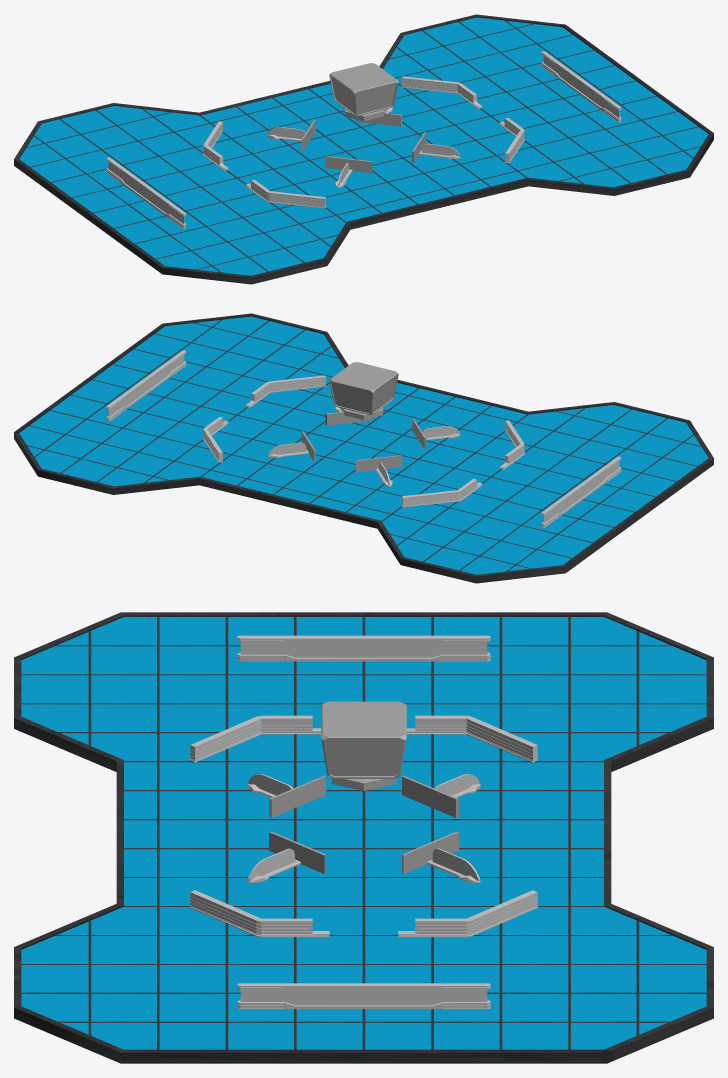
File: Arena_r03.fbx
3 views of the same model, one above another, from view 1: azimuth 30°, elevation 25°; view 2: azimuth 150°, elevation 25°; view 3: azimuth 270°, elevation 25° (orthographic). The views are drawn at different scales.
Parts seen in each view (by area): view 1: floor, floor_guard, floor_grids, score_board, glass_wall, glass_wall1, middle_walls, solid_wall, solid_wall10, solid_wall9, solid_wall8, glass_wall3; view 2: floor, floor_guard, floor_grids, score_board, glass_wall, glass_wall1, middle_walls, solid_wall8, solid_wall9, solid_wall10, solid_wall, glass_wall2; view 3: floor, floor_guard, floor_grids, glass_wall, glass_wall1, score_board, middle_walls, solid_wall8, solid_wall, solid_wall10, solid_wall9, glass_wall3 (+1 smaller).
Boxes of the visible parts, x1=… form: floor: x1=19, y1=17, x2=708, y2=275; floor_guard: x1=14, y1=14, x2=713, y2=284; floor_grids: x1=26, y1=20, x2=700, y2=272; score_board: x1=329, y1=63, x2=398, y2=115; glass_wall: x1=106, y1=157, x2=186, y2=228; glass_wall1: x1=541, y1=51, x2=621, y2=122; middle_walls: x1=301, y1=112, x2=426, y2=173; solid_wall: x1=401, y1=76, x2=482, y2=108; solid_wall10: x1=245, y1=179, x2=326, y2=208; solid_wall9: x1=203, y1=121, x2=228, y2=170; solid_wall8: x1=499, y1=117, x2=524, y2=163; glass_wall3: x1=419, y1=143, x2=460, y2=158; floor: x1=19, y1=316, x2=708, y2=574; floor_guard: x1=14, y1=313, x2=713, y2=583; floor_grids: x1=27, y1=319, x2=701, y2=571; score_board: x1=329, y1=362, x2=398, y2=414; glass_wall: x1=541, y1=456, x2=621, y2=527; glass_wall1: x1=106, y1=350, x2=186, y2=421; middle_walls: x1=301, y1=411, x2=426, y2=472; solid_wall8: x1=245, y1=375, x2=326, y2=407; solid_wall9: x1=401, y1=478, x2=482, y2=507; solid_wall10: x1=499, y1=420, x2=524, y2=469; solid_wall: x1=203, y1=416, x2=228, y2=462; glass_wall2: x1=267, y1=442, x2=308, y2=457; floor: x1=21, y1=617, x2=706, y2=1049; floor_guard: x1=14, y1=612, x2=713, y2=1063; floor_grids: x1=21, y1=616, x2=706, y2=1049; glass_wall: x1=237, y1=635, x2=490, y2=661; glass_wall1: x1=237, y1=983, x2=490, y2=1009; score_board: x1=321, y1=701, x2=406, y2=778; middle_walls: x1=269, y1=775, x2=458, y2=873; solid_wall8: x1=189, y1=890, x2=329, y2=937; solid_wall: x1=398, y1=890, x2=538, y2=937; solid_wall10: x1=189, y1=715, x2=321, y2=762; solid_wall9: x1=406, y1=715, x2=538, y2=762; glass_wall3: x1=247, y1=848, x2=300, y2=883.
Bounding box in the file's own units: 30427 × 4000 × 20427.
